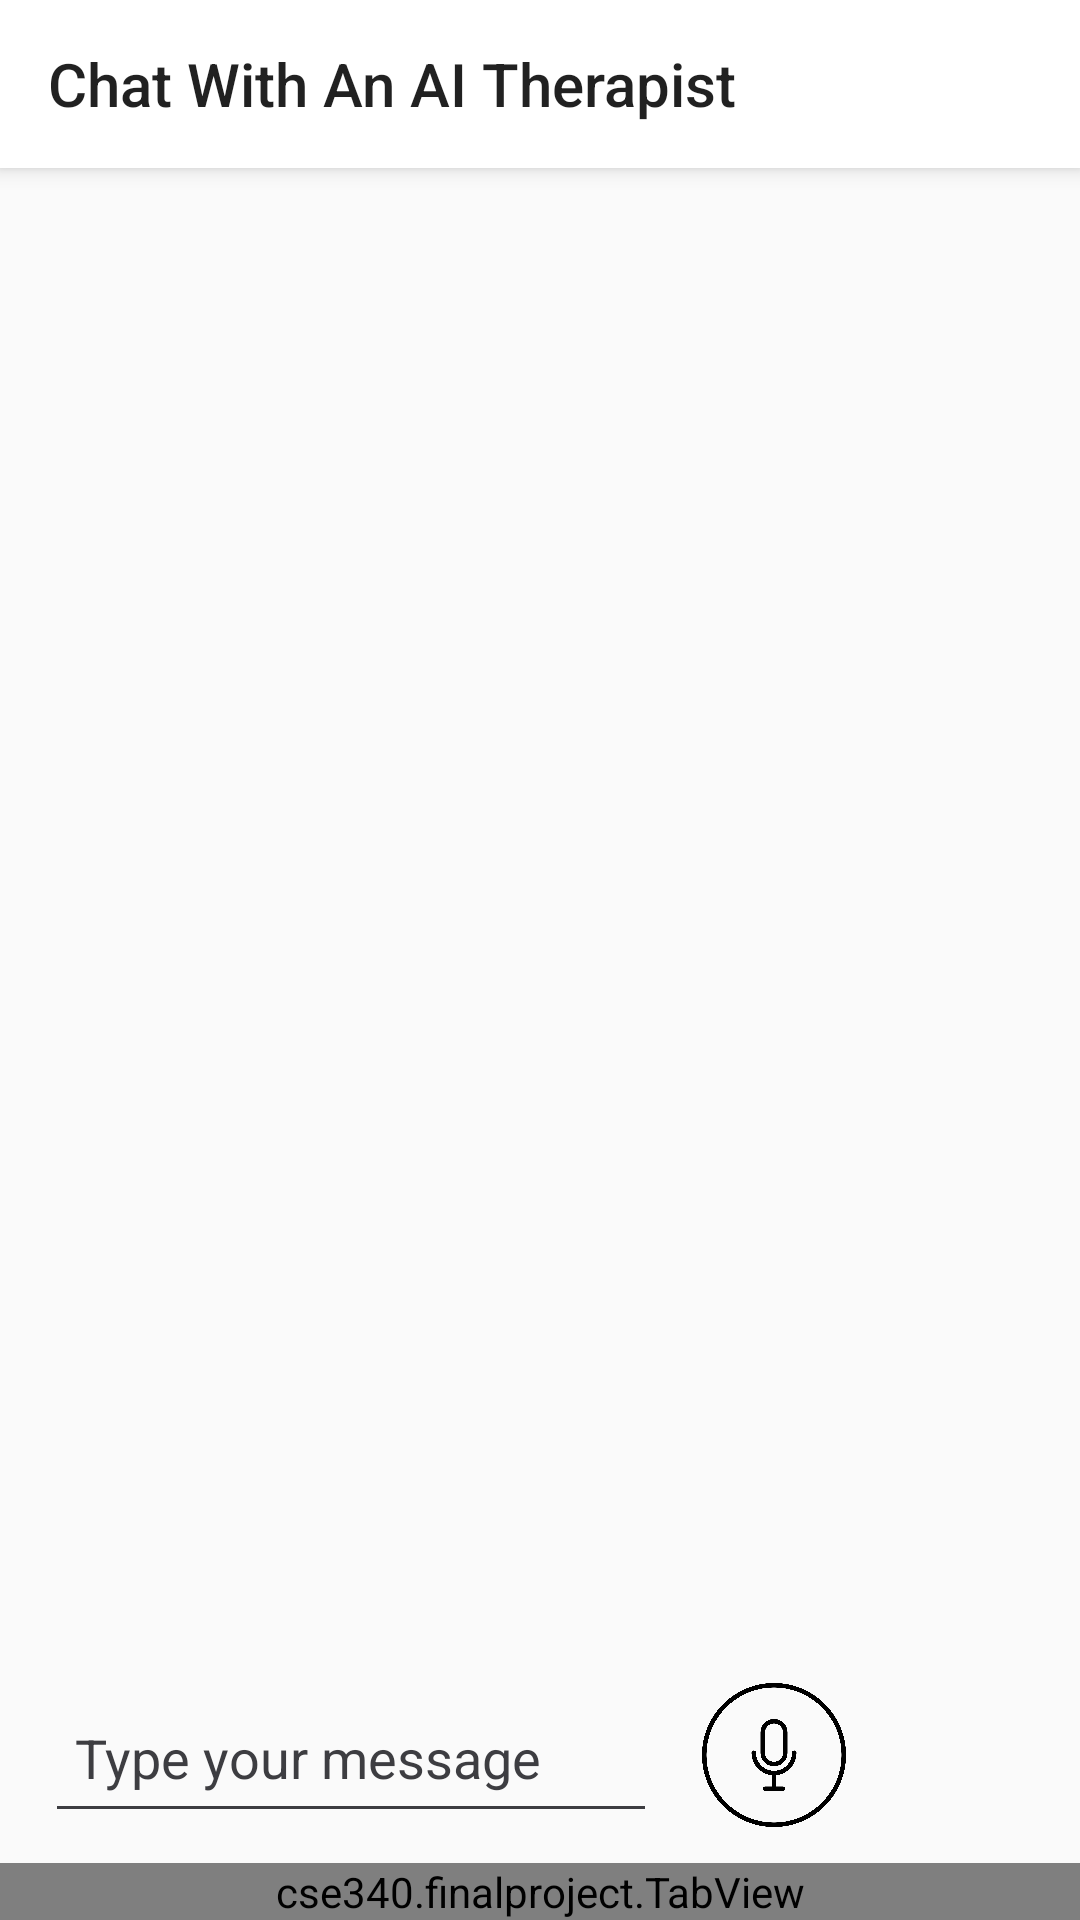

Named icons in this screenshot (1080px x 1920px) and their centers, (x,y):
Microphone for text-to-speech: (774,1755)
